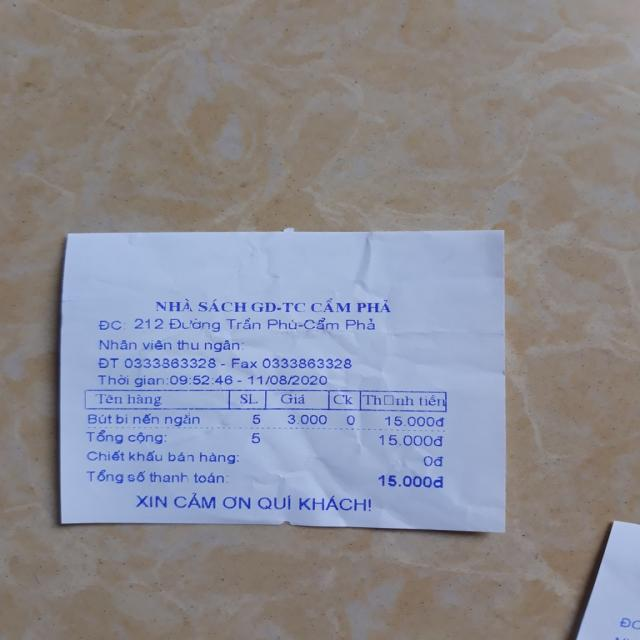Date: (246, 371, 330, 388)
Store_Name: (154, 298, 396, 316)
amount_number: (373, 473, 433, 489)
label_total: (86, 468, 227, 486)
